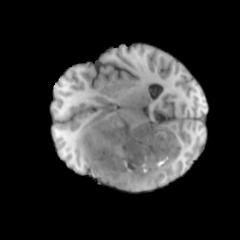glioma: (76, 114, 189, 189)
